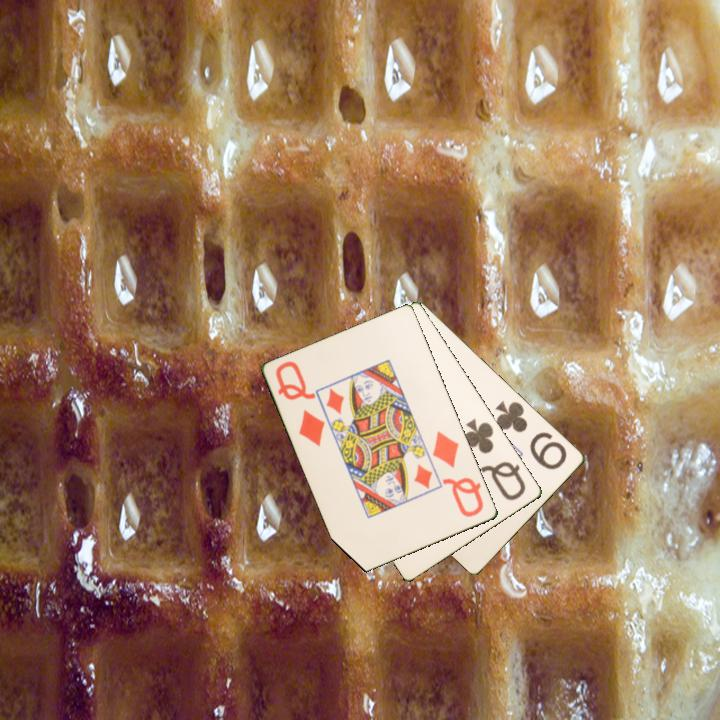9c: (492, 397, 570, 473)
Qc: (460, 415, 529, 504)
Qd: (429, 428, 487, 520), (272, 356, 328, 450)
